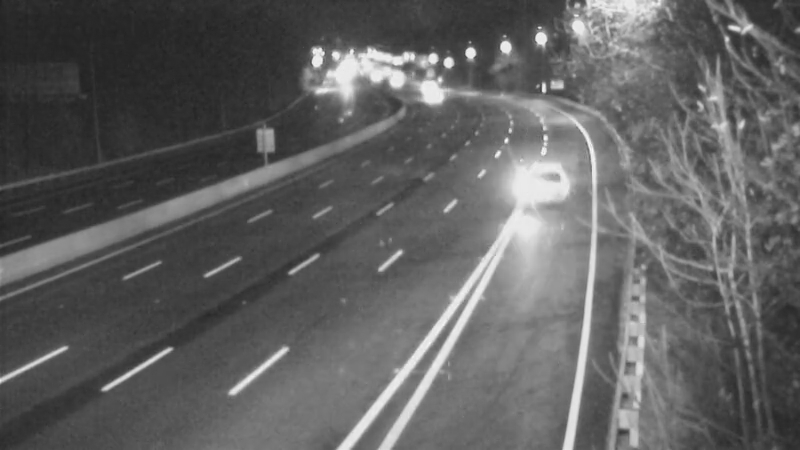vehicle: (497, 130, 577, 210), (405, 60, 455, 110), (404, 72, 454, 122)
